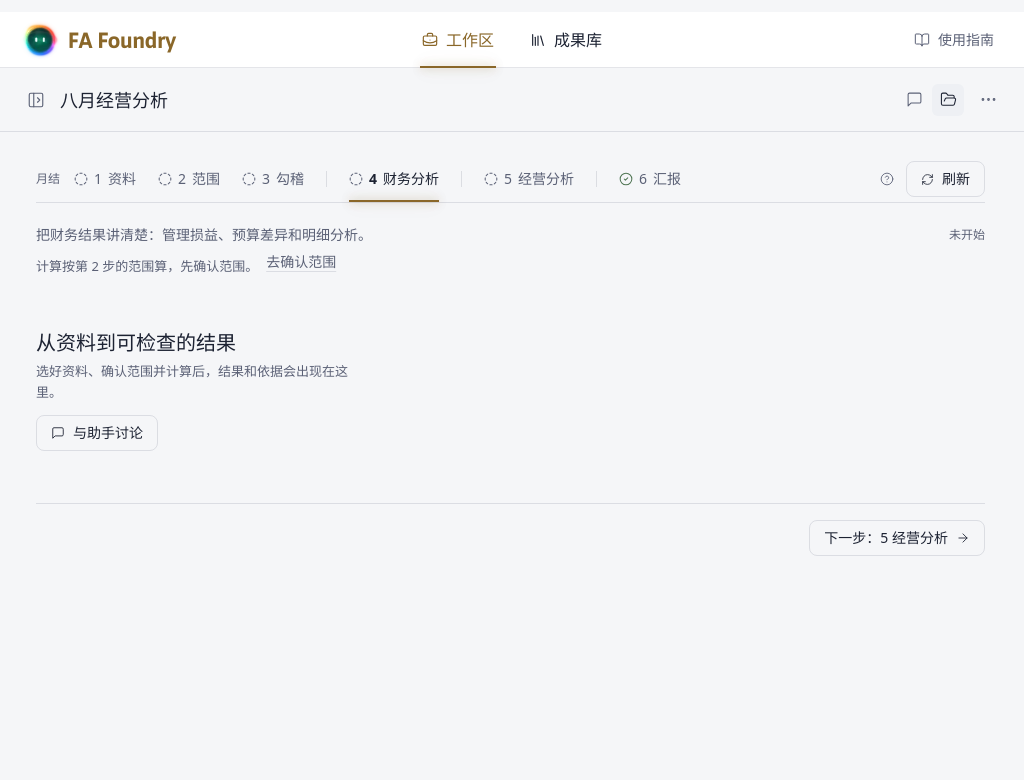
Scenario: opening 成果库 rows in the app › opens a draft of the task already open with that version, not its newest
Expected: the heading "八月经营分析" is shown, [60, 86, 168, 114]
Click the button "成果库": (566,40) [514, 12, 618, 67]
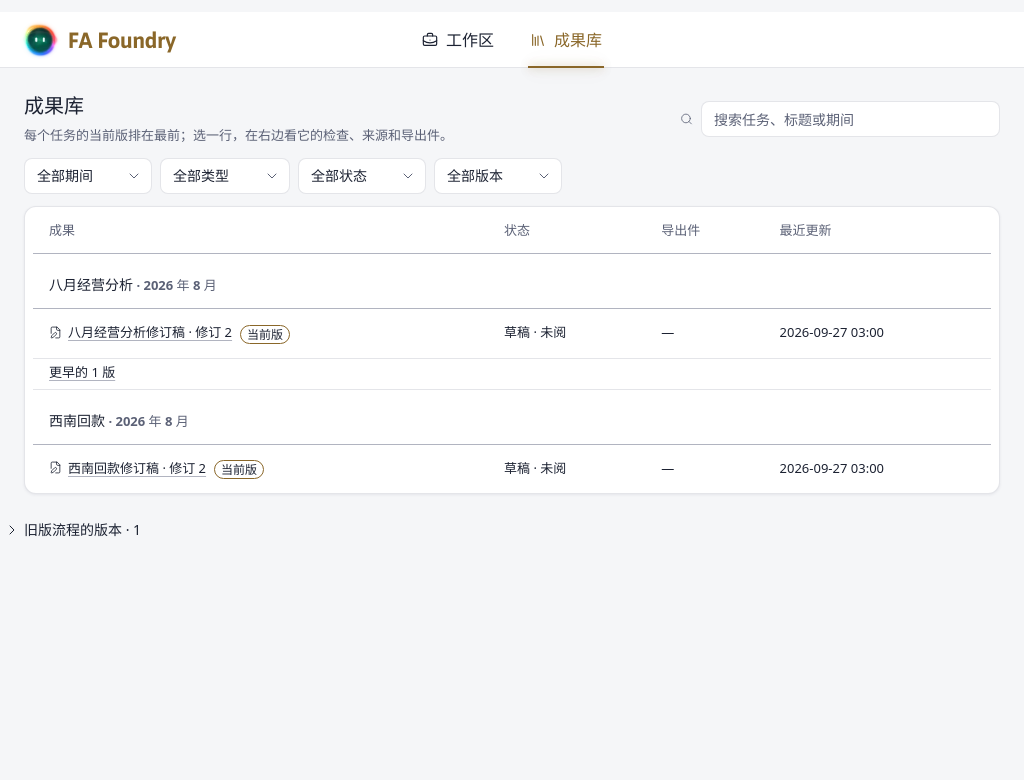
Click the 3rd button: (141,332) [49, 321, 232, 343]
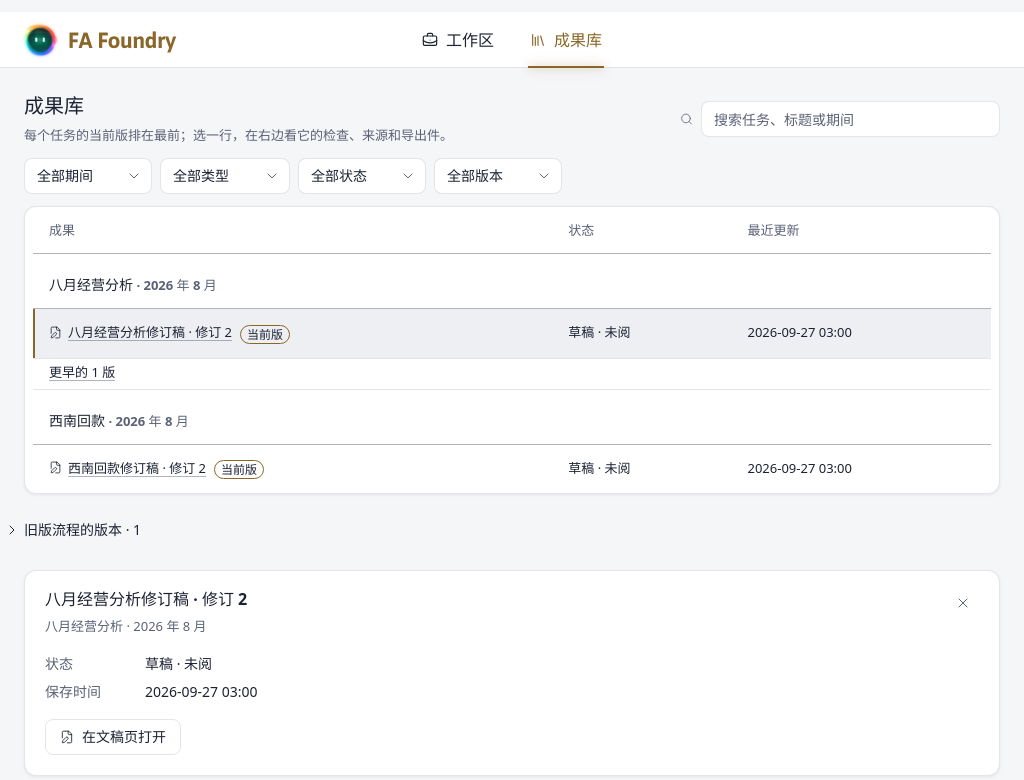
Click the button "在文稿页打开": (113,737) [45, 719, 181, 755]
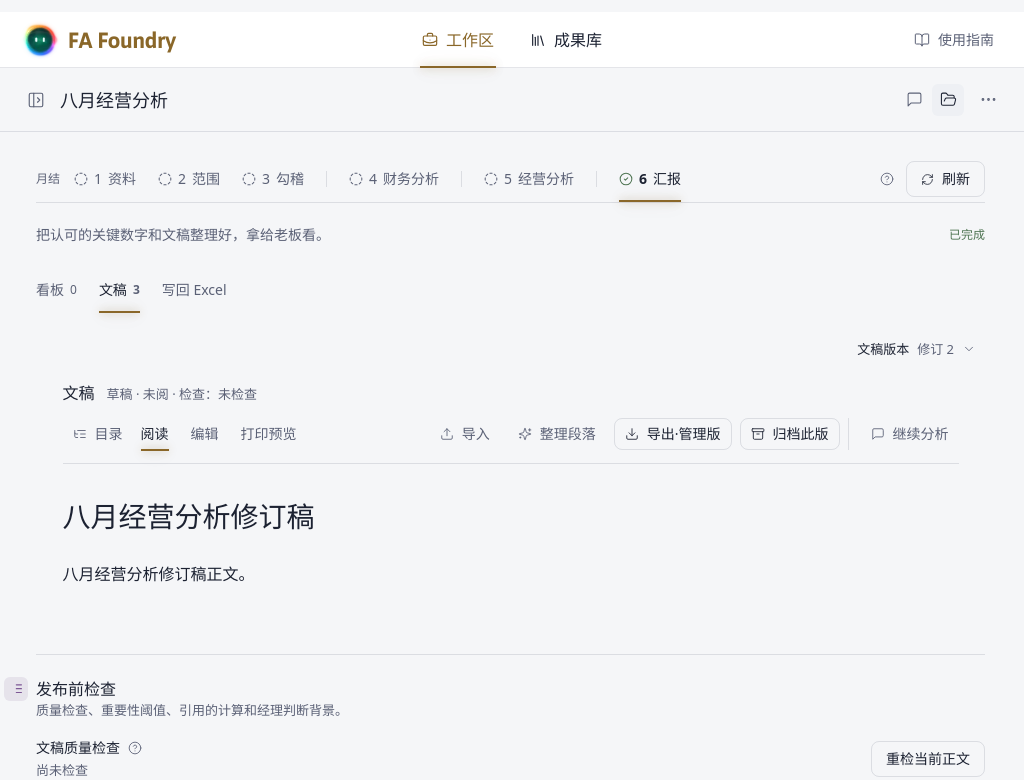
Now the heading "八月经营分析" is shown, box [60, 86, 168, 114]
Now the button "文稿版本 修订 2" is shown, box [848, 333, 985, 365]
